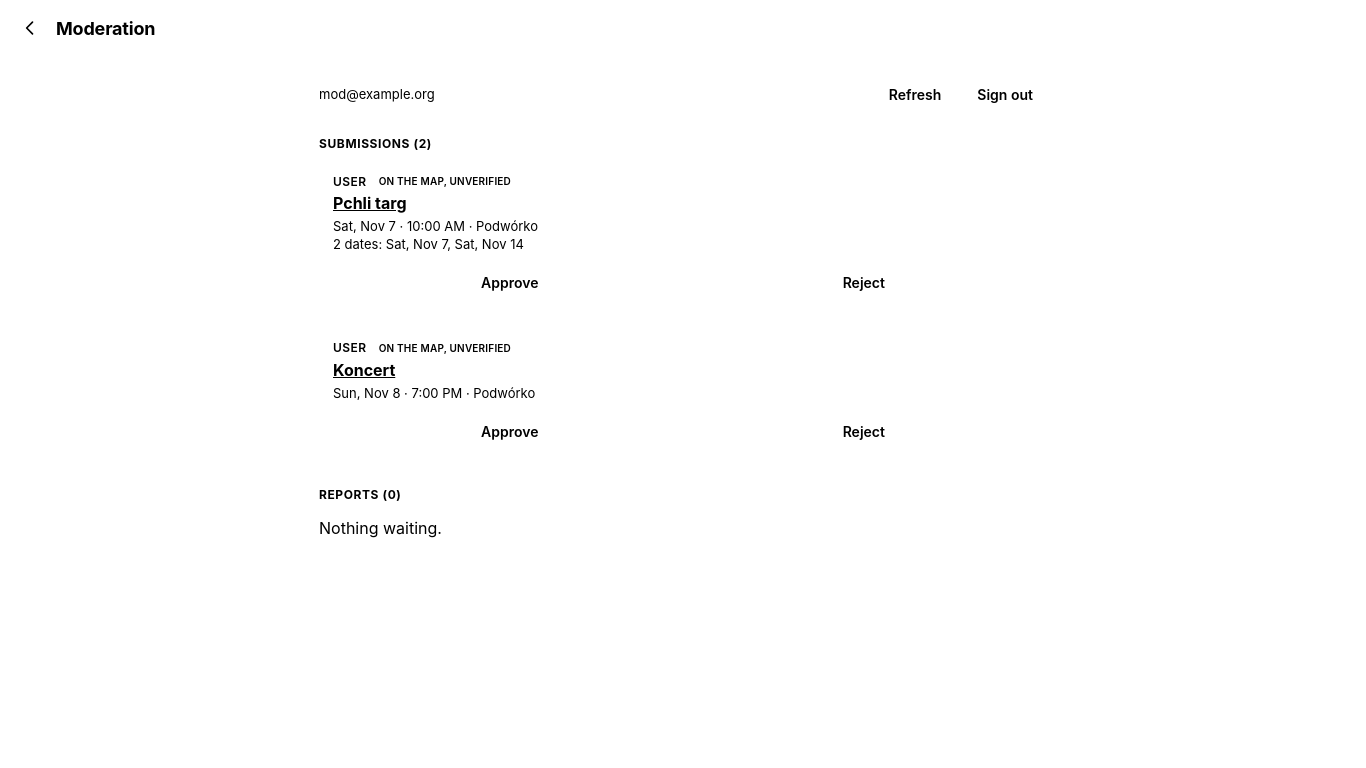
Scenario: a series in the moderation queue (M12 §4.5) › shows the dates as one card and decides them together
Expected: the heading "Submissions (2)" is shown, [319, 136, 432, 151]
Expected: the number of links "Pchli targ" is 1, [333, 193, 406, 213]
Step 1. Click the button "Approve" below "2 dates: Sat, Nov 7, Sat, Nov 14" → [510, 283], box [333, 262, 687, 304]
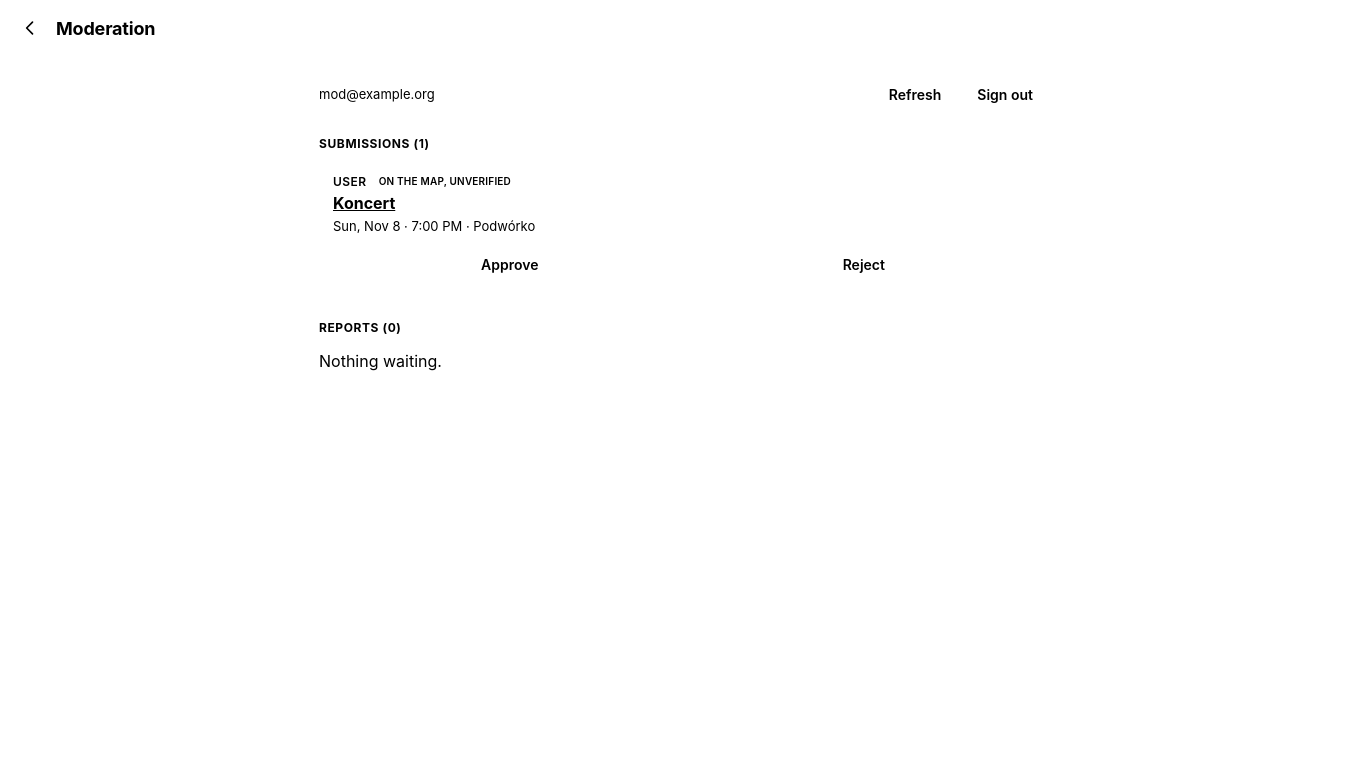
Expected: the link "Koncert" is shown, [333, 193, 395, 213]
Expected: the link "Pchli targ" is gone
